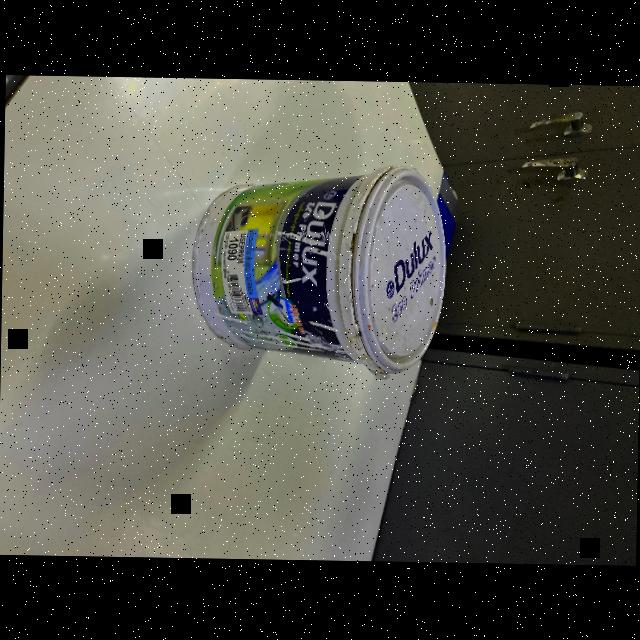paint_bucket: (190, 160, 460, 374)
